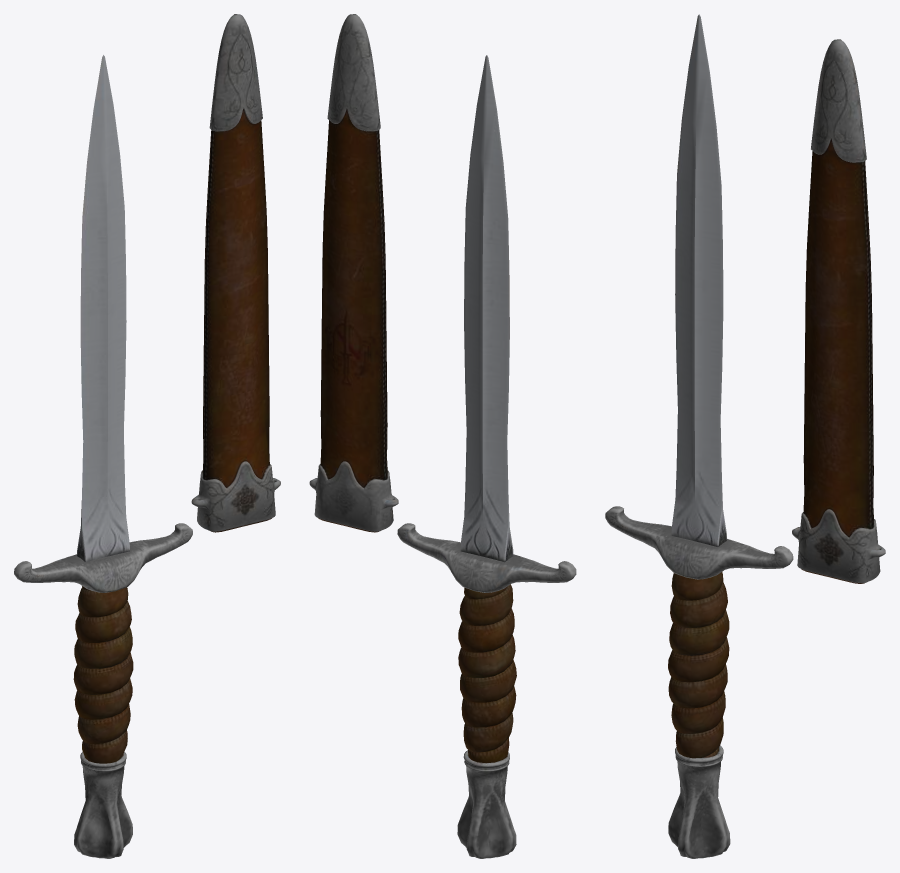
The model's file is cc0_dagger.glb.
3 views of the same model, side by side, from view 1: azimuth 30°, elevation 25°; view 2: azimuth 150°, elevation 25°; view 3: azimuth 330°, elevation 25° (orthographic). The views are drawn at different scales.
Parts seen in each view (by area): view 1: ornate_medieval_dagger; view 2: ornate_medieval_dagger; view 3: ornate_medieval_dagger.
Part boxes in pixels (x1,y1,x2,y2): ornate_medieval_dagger: (14,14,280,858); ornate_medieval_dagger: (309,14,576,858); ornate_medieval_dagger: (605,14,885,858).
Size of the model in its own units: 0.1201 by 0.3489 by 0.025.
1 material, 1 textured.
